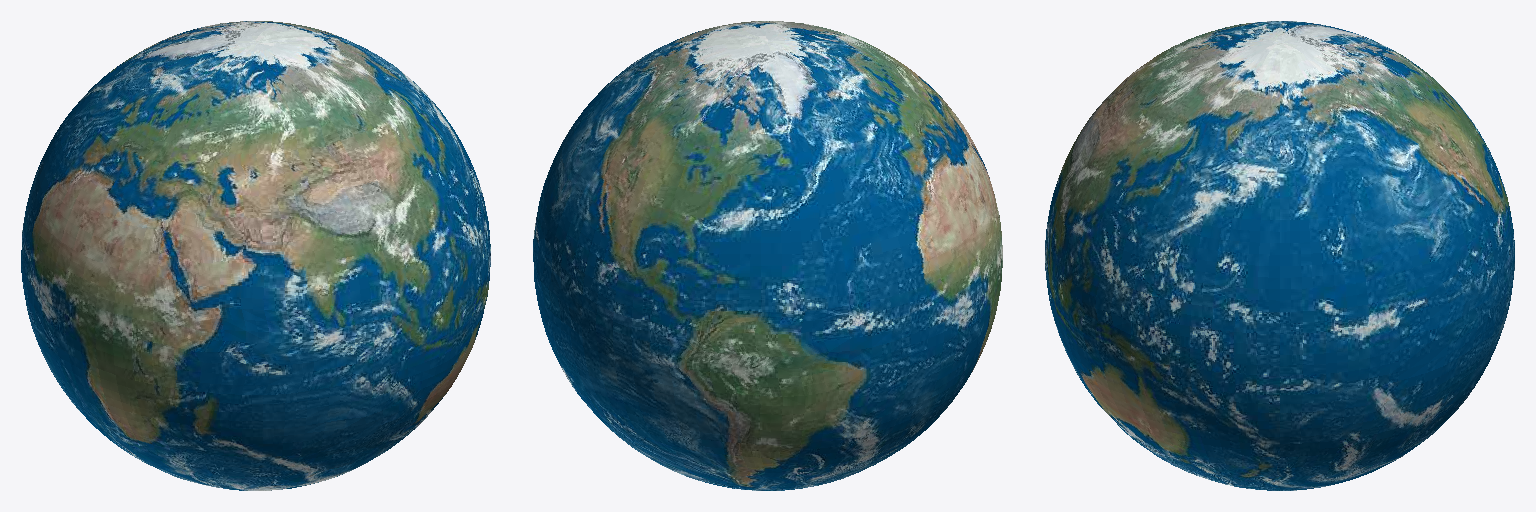
3 views of the same model, side by side, from view 1: azimuth 30°, elevation 25°; view 2: azimuth 150°, elevation 25°; view 3: azimuth 270°, elevation 25° (orthographic).
Size of the model in its own units: 1 by 1 by 1.
Materials: 1 (1 with a texture image).